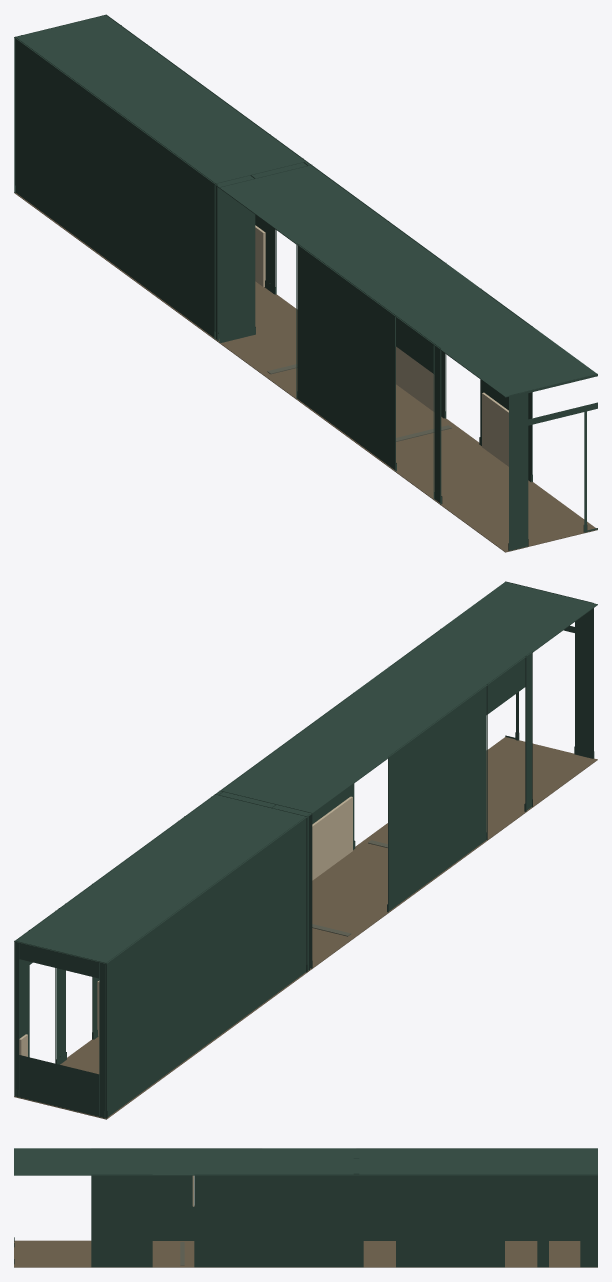
The model's file is corridor-3.glb.
The picture shows the model from 3 angles, top to bottom: view 1: azimuth 30°, elevation 25°; view 2: azimuth 150°, elevation 25°; view 3: azimuth 270°, elevation 25°; orthographic projection. The views are drawn at different scales.
Visible parts, largest first — view 1: DESIGN | corridor removable wall finish, DESIGN | corridor ceiling finish, DESIGN | corridor floor finish, DESIGN | Dark garden wainscot.004, DESIGN | Dark garden wainscot.003; view 2: DESIGN | corridor removable wall finish, DESIGN | corridor ceiling finish, DESIGN | corridor floor finish, DESIGN | Dark garden wainscot.003; view 3: DESIGN | corridor removable wall finish, DESIGN | corridor ceiling finish, DESIGN | corridor floor finish.
Part boxes in pixels (box(x1,y1,x2,y2)): DESIGN | corridor removable wall finish: box(14, 14, 597, 550); DESIGN | corridor ceiling finish: box(14, 15, 597, 397); DESIGN | corridor floor finish: box(14, 192, 597, 552); DESIGN | Dark garden wainscot.004: box(482, 392, 508, 466); DESIGN | Dark garden wainscot.003: box(396, 346, 434, 411); DESIGN | corridor removable wall finish: box(14, 581, 594, 1118); DESIGN | corridor ceiling finish: box(14, 582, 597, 964); DESIGN | corridor floor finish: box(14, 737, 597, 1119); DESIGN | Dark garden wainscot.003: box(312, 796, 352, 880); DESIGN | corridor removable wall finish: box(14, 1148, 597, 1267); DESIGN | corridor ceiling finish: box(14, 1148, 597, 1175); DESIGN | corridor floor finish: box(14, 1240, 597, 1267).
Bounding box in the file's own units: 1.7 × 2.74 × 15.63.
